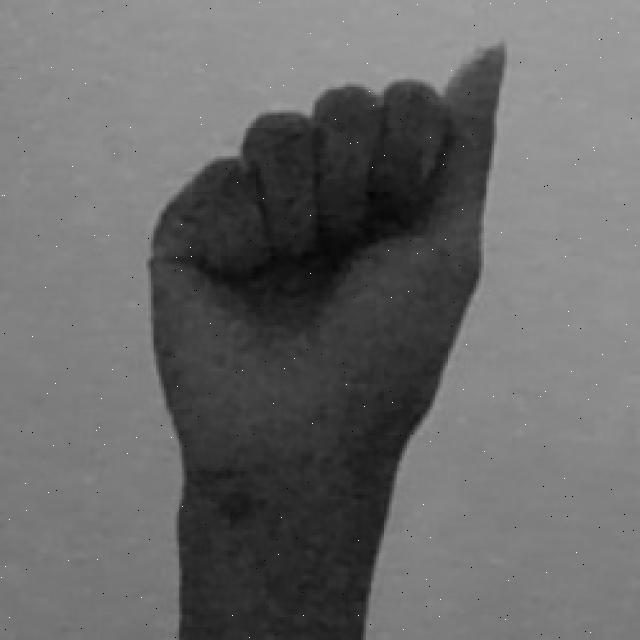A: (142, 35, 523, 640)
